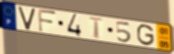4: (65, 13, 84, 39)
5: (115, 20, 133, 43)
F: (37, 8, 58, 34)
G: (136, 23, 156, 47)
T: (88, 16, 105, 40)
V: (17, 6, 37, 31)
